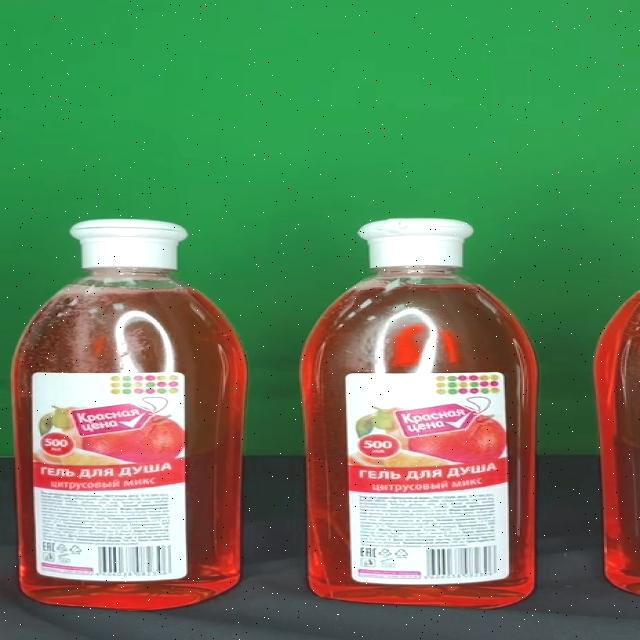Bottle: (300, 216, 540, 609), (12, 219, 248, 611)
Cap: (66, 220, 186, 270), (355, 217, 473, 266)
